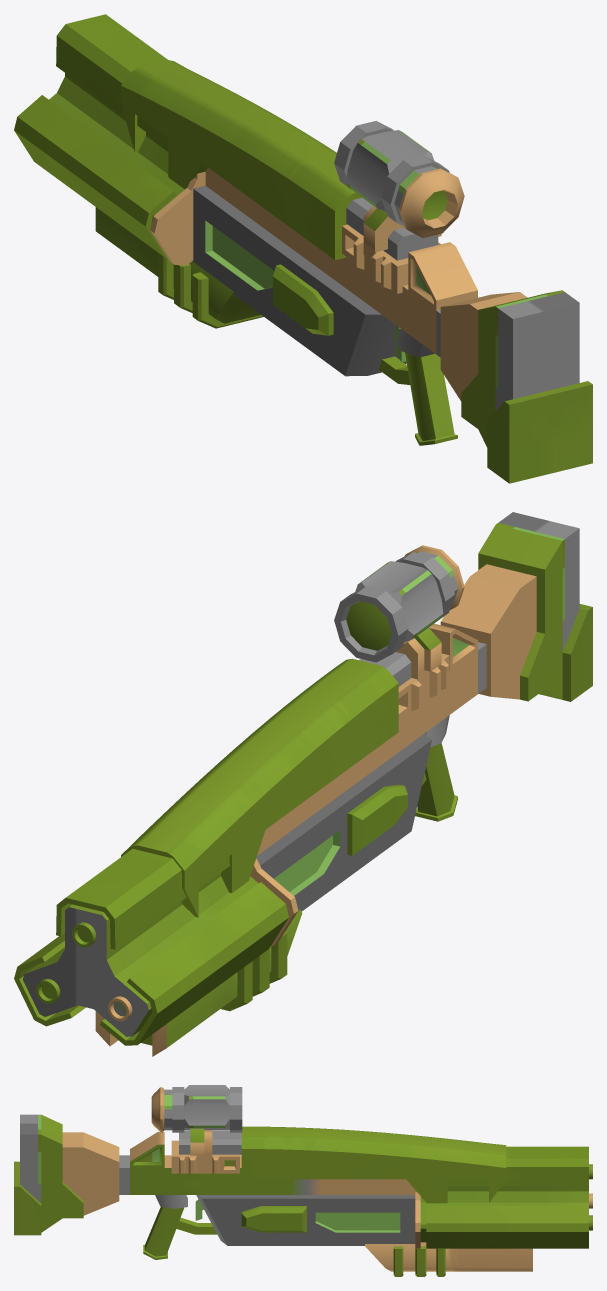
Rendered from lazer_gun.fbx.
3 renders of one model, top to bottom at view 1: azimuth 30°, elevation 25°; view 2: azimuth 150°, elevation 25°; view 3: azimuth 270°, elevation 25°, orthographic. The views are drawn at different scales.
Parts seen in each view (by area): view 1: lazer_gun; view 2: lazer_gun; view 3: lazer_gun.
Boxes of the visible parts, <box> form: lazer_gun: <box>14,14,592,483</box>; lazer_gun: <box>14,512,592,1056</box>; lazer_gun: <box>14,1085,592,1276</box>.
Size of the model in its own units: 1.92 by 3.69 by 10.83.
